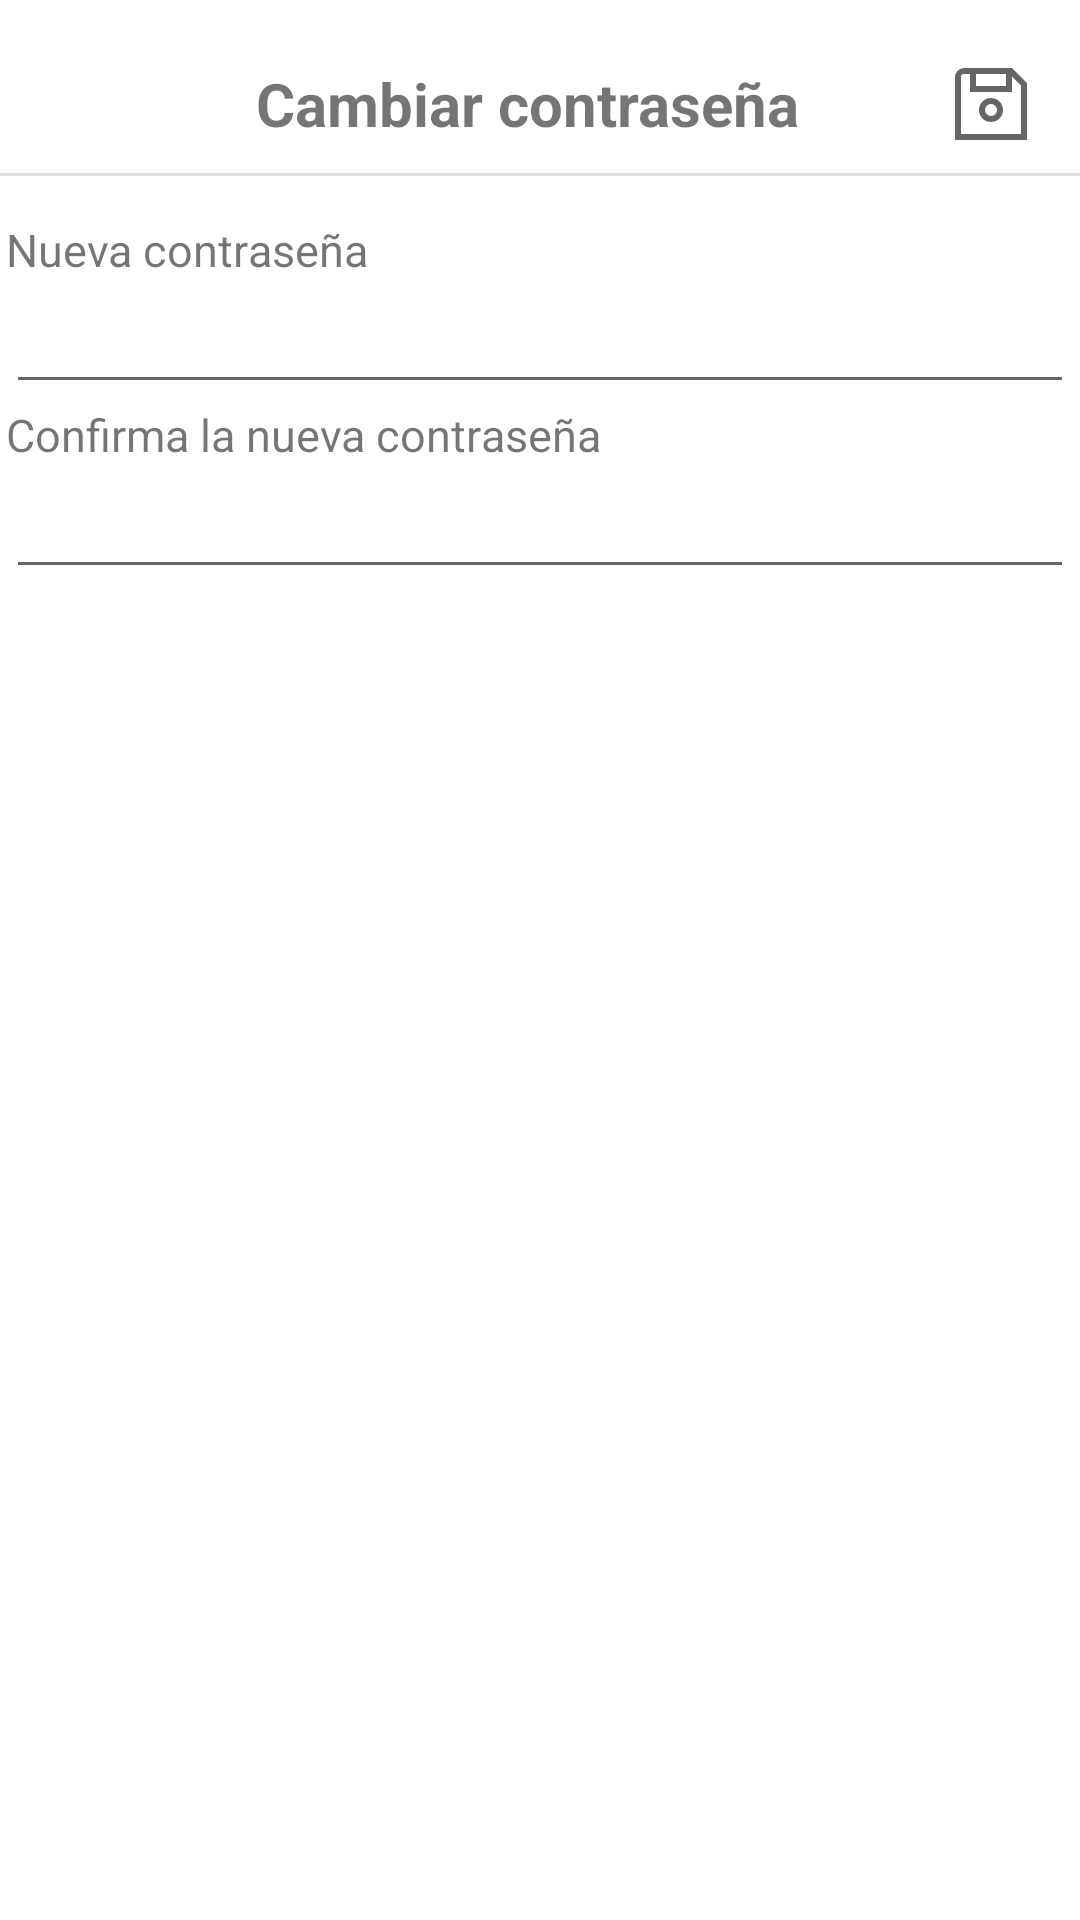

Named icons in this screenshot (1080 × 1920) and their bounding boxes, (x1, y1, x2, y2):
disco: (955, 68, 1027, 140)
